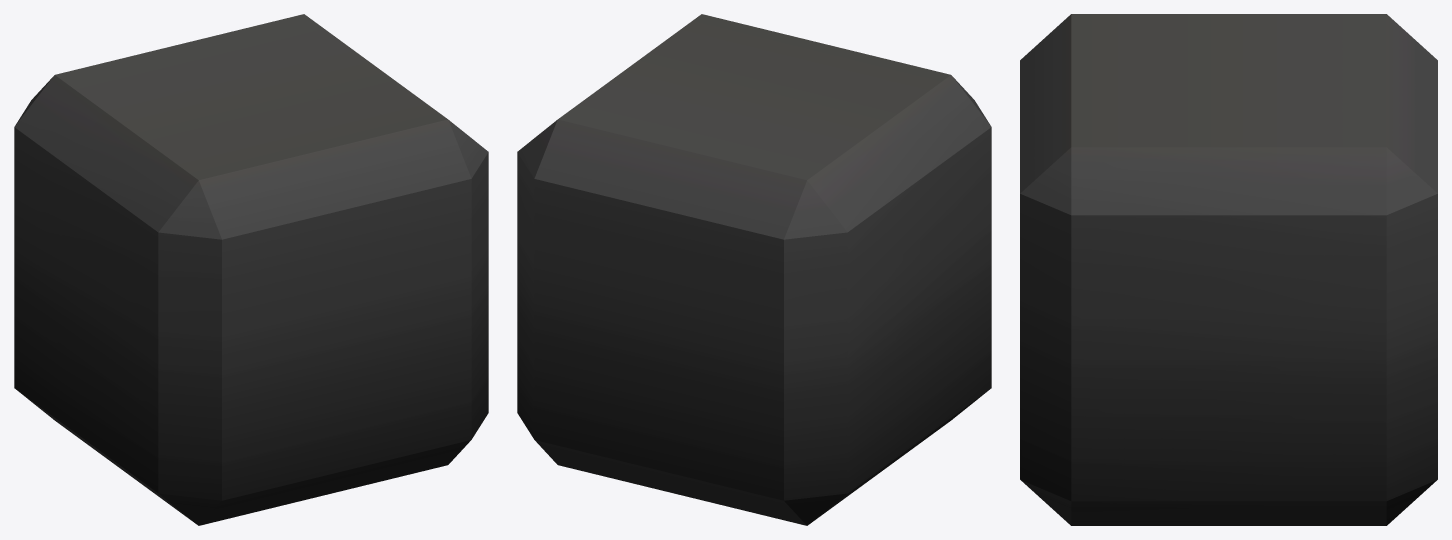
The model's file is 40bfe40b-ddcd-4dc8-b35f-dd1d6a8a28b1.glb.
3 renders of one model, left to right at view 1: azimuth 30°, elevation 25°; view 2: azimuth 150°, elevation 25°; view 3: azimuth 270°, elevation 25°, orthographic. The views are drawn at different scales.
Parts seen in each view (by area): view 1: CyberPunkCubeShapeA.011; view 2: CyberPunkCubeShapeA.011; view 3: CyberPunkCubeShapeA.011.
Part boxes in pixels (x1=…): CyberPunkCubeShapeA.011: x1=14, y1=14, x2=488, y2=525; CyberPunkCubeShapeA.011: x1=517, y1=14, x2=991, y2=525; CyberPunkCubeShapeA.011: x1=1020, y1=14, x2=1437, y2=525.
Size of what is drawn, in the model's own units: 0.7462 by 0.7462 by 0.7462.
1 material, 1 textured.
